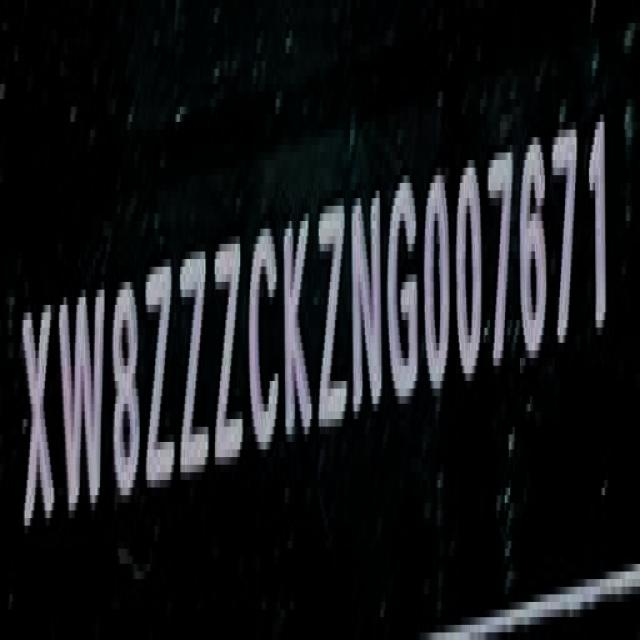0: (422, 161, 452, 406), (454, 141, 483, 378)
1: (586, 110, 609, 347)
6: (518, 138, 548, 376)
7: (550, 107, 580, 364), (486, 133, 514, 375)
8: (110, 263, 140, 516)
C: (247, 217, 281, 466)
G: (387, 164, 422, 406)
K: (281, 209, 316, 460)
N: (350, 183, 384, 432)
W: (58, 271, 105, 542)
X: (22, 288, 54, 539)
Z: (211, 220, 244, 474), (314, 186, 348, 432), (180, 234, 212, 483), (144, 251, 176, 497)
